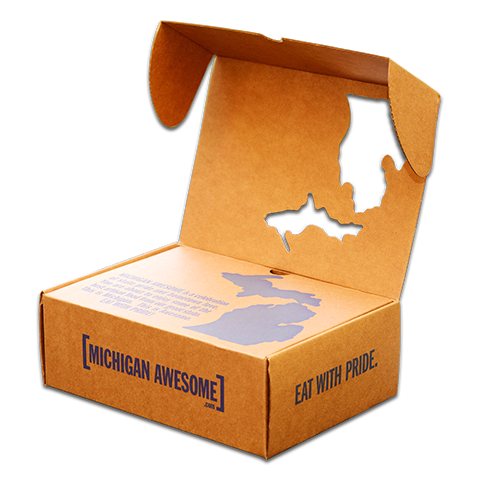Rec_Paper: (38, 14, 444, 467)
